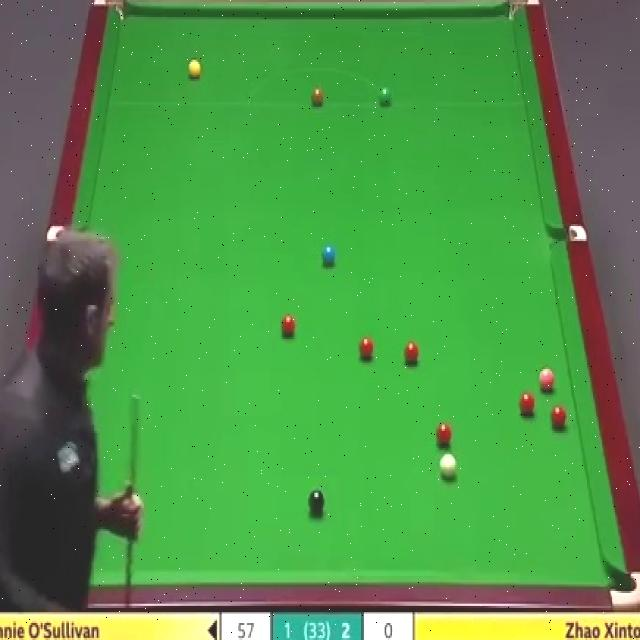black-ball: (307, 489, 326, 515)
blue-ball: (322, 244, 336, 268)
brown-ball: (311, 88, 324, 107)
green-ball: (379, 86, 391, 106)
pink-ball: (539, 365, 556, 393)
red-ball: (434, 422, 453, 448), (404, 338, 420, 365), (551, 402, 566, 428), (358, 336, 373, 361), (519, 392, 535, 415), (281, 312, 296, 335)
white-ball: (440, 453, 458, 482)
yellow-ball: (187, 59, 203, 82)
